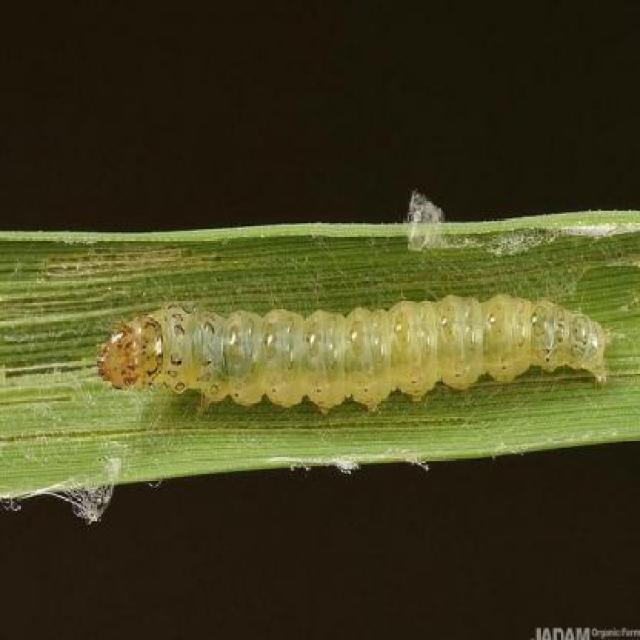leaf-folder: (89, 287, 612, 404)
